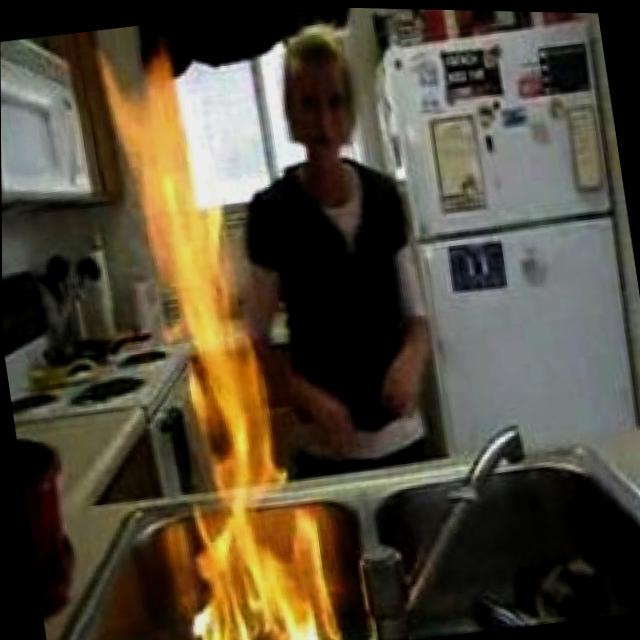helmet: (93, 33, 341, 640)
